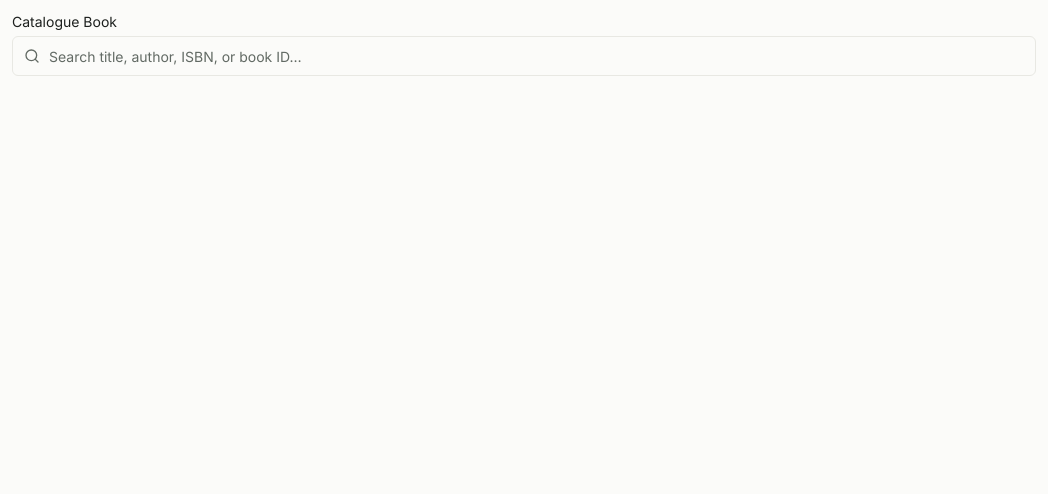
Scenario: CatalogueSelector › includes archived RPC matches when includeArchived is enabled
Type "Edition" into the field named "Catalogue Book".
click(524, 56); type("Edition")  # box [12, 36, 1036, 76]
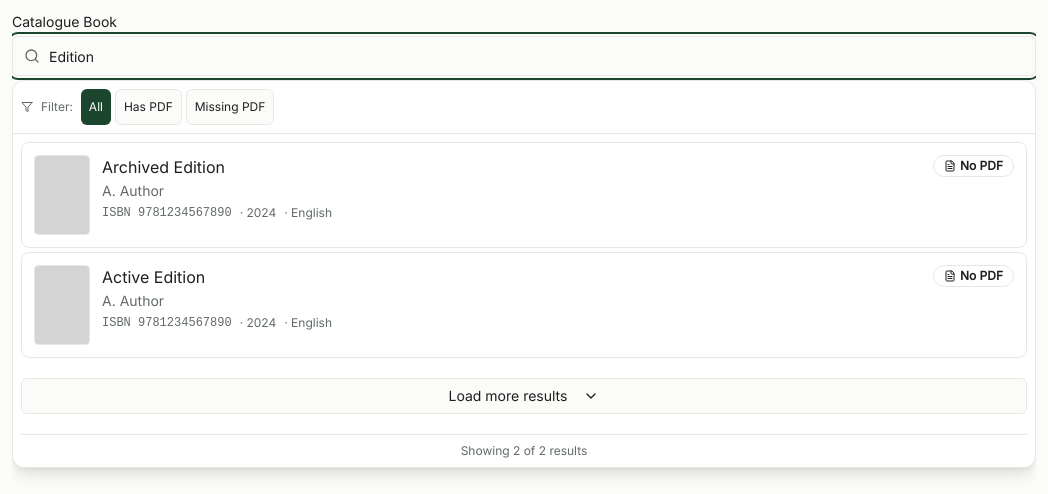
Check: the option "Archived Edition" is shown, box [21, 142, 1027, 248]
Check: the option "Active Edition" is shown, box [21, 252, 1027, 358]
